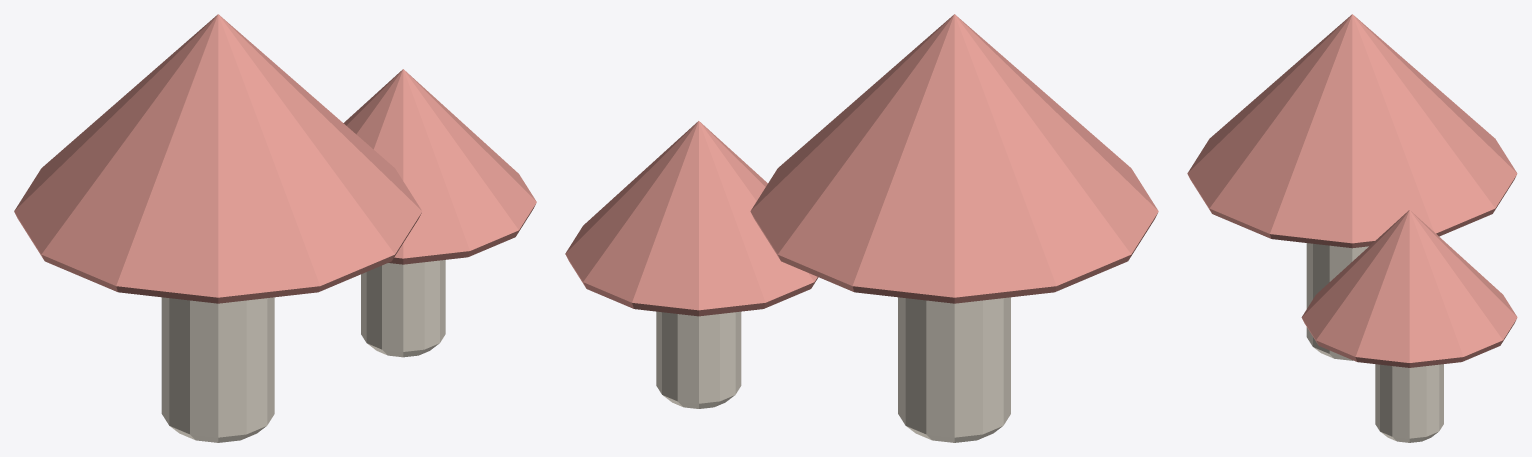
File: SM_Mushroom_01.fbx
3 renders of one model, left to right at view 1: azimuth 30°, elevation 25°; view 2: azimuth 150°, elevation 25°; view 3: azimuth 270°, elevation 25°, orthographic. The views are drawn at different scales.
Visible parts, largest first — view 1: Mushroom_01; view 2: Mushroom_01; view 3: Mushroom_01.
Boxes of the visible parts, <box> form: Mushroom_01: <box>14,14,536,442</box>; Mushroom_01: <box>565,14,1158,442</box>; Mushroom_01: <box>1187,14,1517,442</box>.
Size of the model in its own units: 41.9 by 32 by 28.9.
